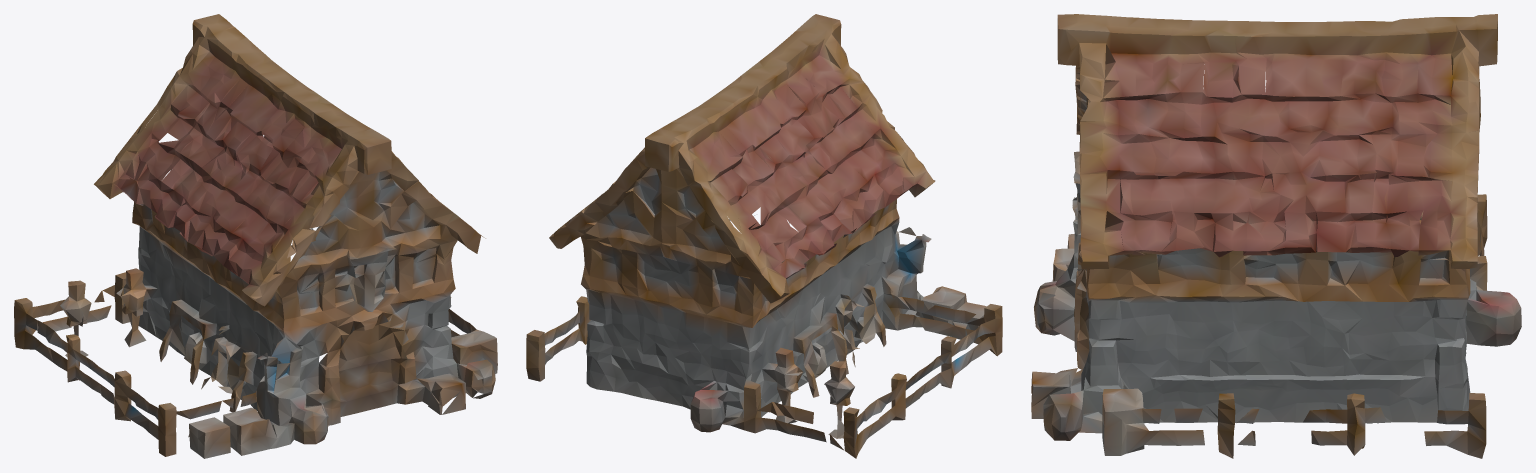
The model's file is building_barracks_lod2.glb.
3 renders of one model, left to right at view 1: azimuth 30°, elevation 25°; view 2: azimuth 150°, elevation 25°; view 3: azimuth 270°, elevation 25°, orthographic. The views are drawn at different scales.
Visible parts, largest first — view 1: world; view 2: world; view 3: world.
Boxes of the visible parts, left/top/right/bottom form: world: left=14, top=14, right=497, bottom=458; world: left=526, top=14, right=1002, bottom=458; world: left=1031, top=14, right=1521, bottom=458.
Bounding box in the file's own units: 1.89 × 1.51 × 1.9.
